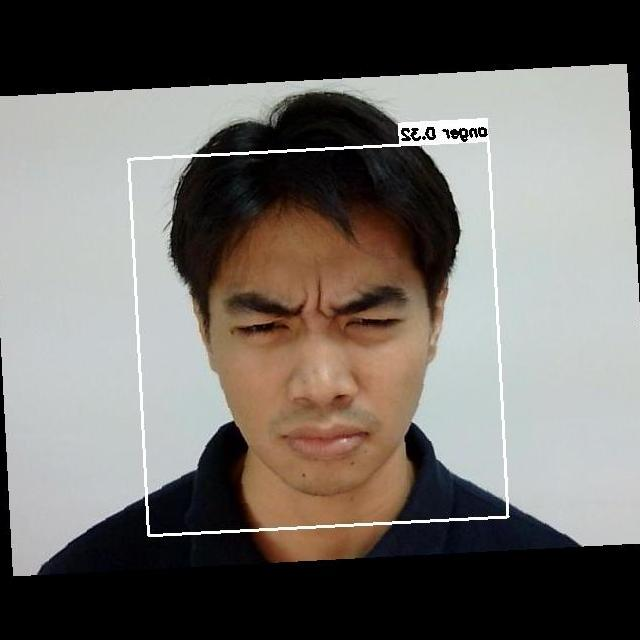Angry: (219, 250, 431, 484)
